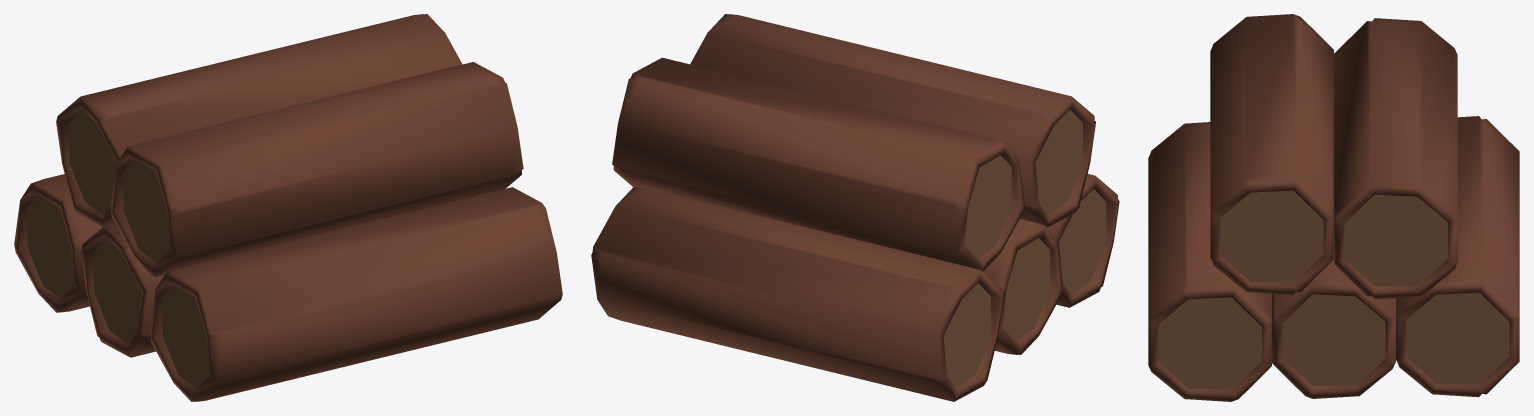
The model's file is PileOfChoppedWood.glb.
3 views of the same model, side by side, from view 1: azimuth 30°, elevation 25°; view 2: azimuth 150°, elevation 25°; view 3: azimuth 270°, elevation 25° (orthographic).
Visible parts, largest first — view 1: PileOfChoppedWood; view 2: PileOfChoppedWood; view 3: PileOfChoppedWood.
Part boxes in pixels (box(x1,y1,x2,y2)): PileOfChoppedWood: box(14, 14, 562, 401); PileOfChoppedWood: box(591, 14, 1119, 401); PileOfChoppedWood: box(1148, 14, 1519, 401).
Size of the model in its own units: 0.6945 by 0.3985 by 0.6239.
1 material, 1 textured.
